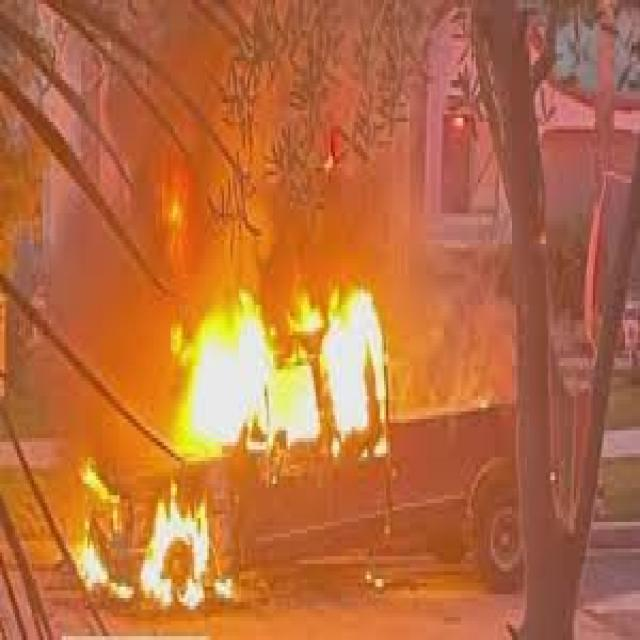fire: (168, 265, 390, 451), (132, 506, 215, 617)
